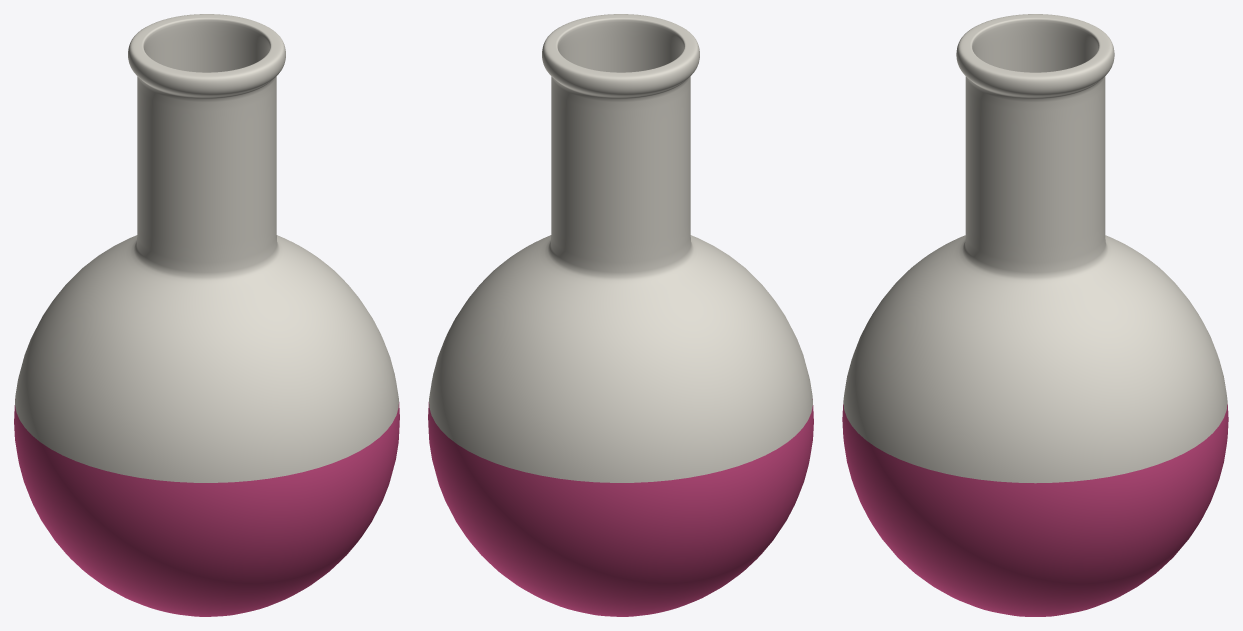
The model's file is potion_pink.fbx.
3 renders of one model, left to right at view 1: azimuth 30°, elevation 25°; view 2: azimuth 150°, elevation 25°; view 3: azimuth 270°, elevation 25°, orthographic.
Visible parts, largest first — view 1: 17200_Round_bottom_flask; view 2: 17200_Round_bottom_flask; view 3: 17200_Round_bottom_flask.
Part boxes in pixels (x1,y1,x2,y2): 17200_Round_bottom_flask: (14, 14, 399, 616); 17200_Round_bottom_flask: (428, 14, 813, 616); 17200_Round_bottom_flask: (842, 14, 1228, 616).
Size of the model in its own units: 1185 by 1880 by 1185.
